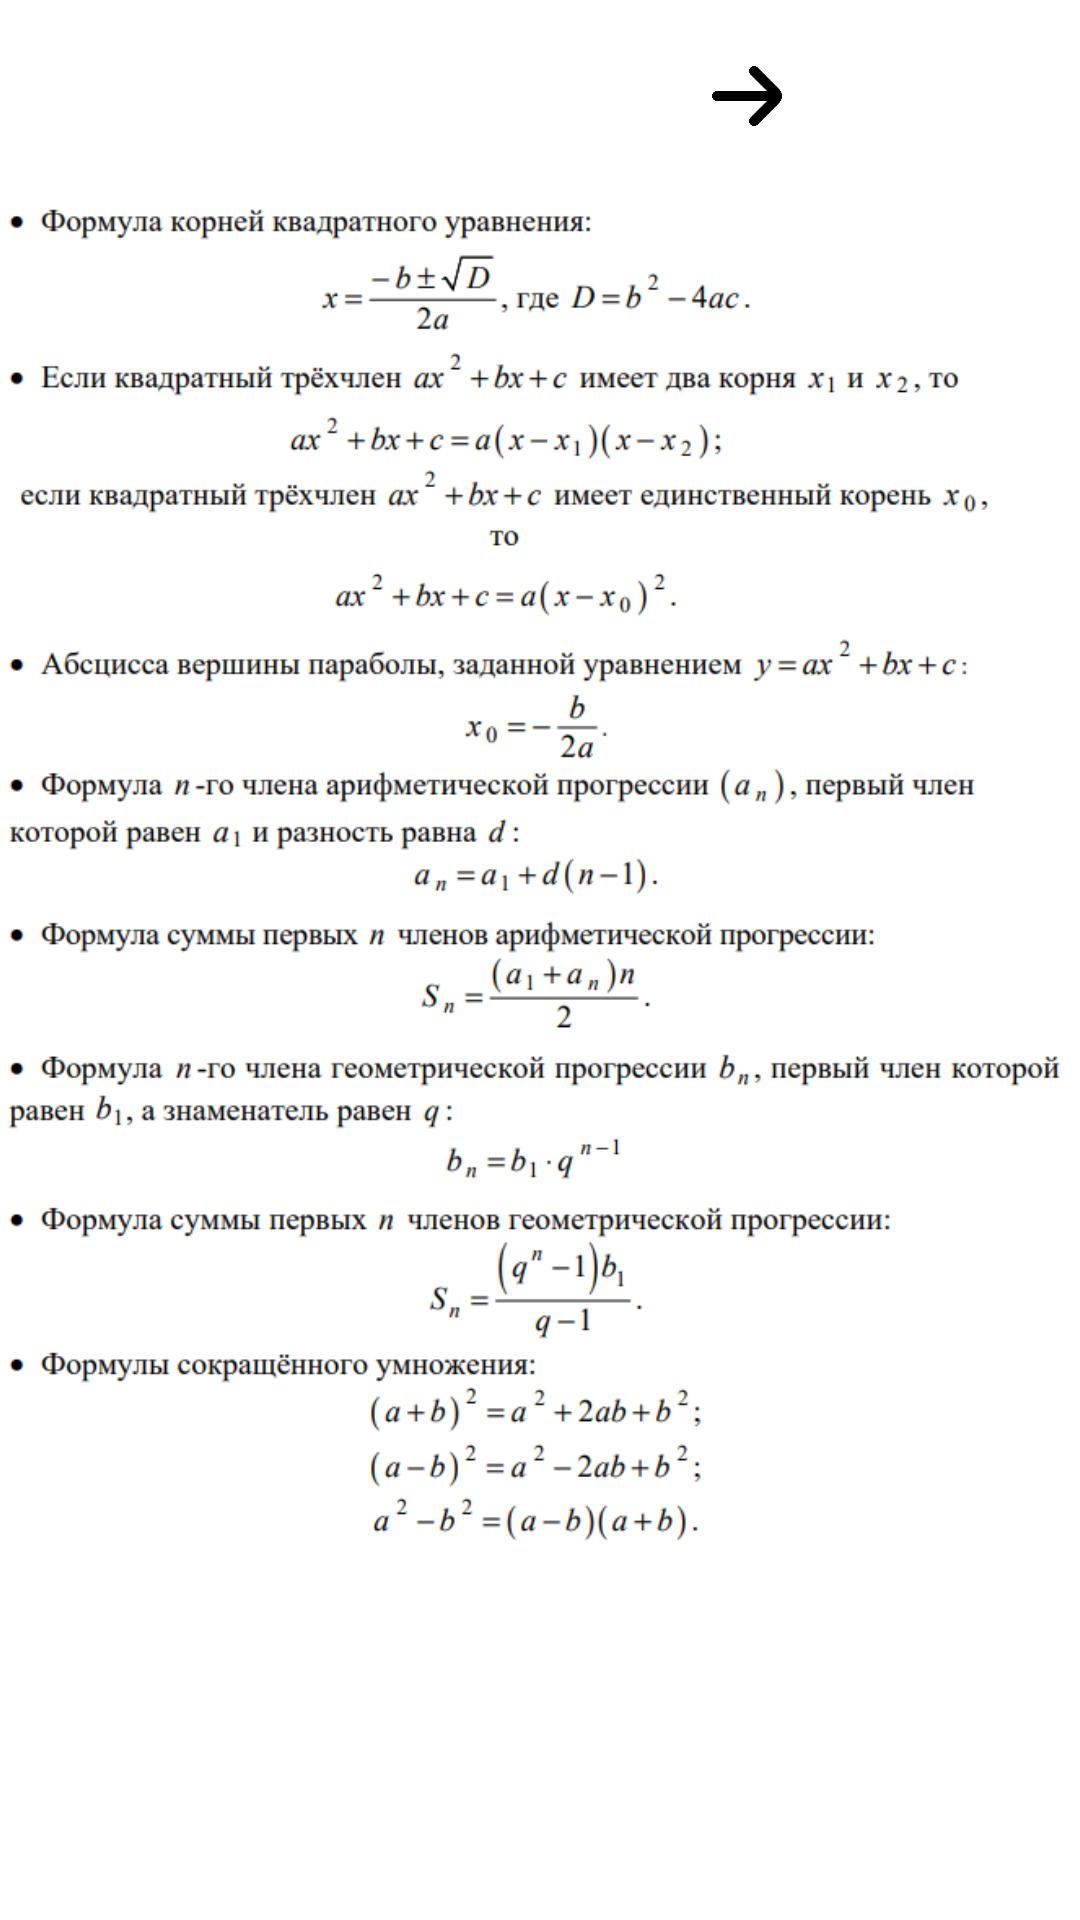

Screen size 1080 × 1920. Icon name, then its center in pixels as (x=x, y=y):
forward: (x=747, y=96)
